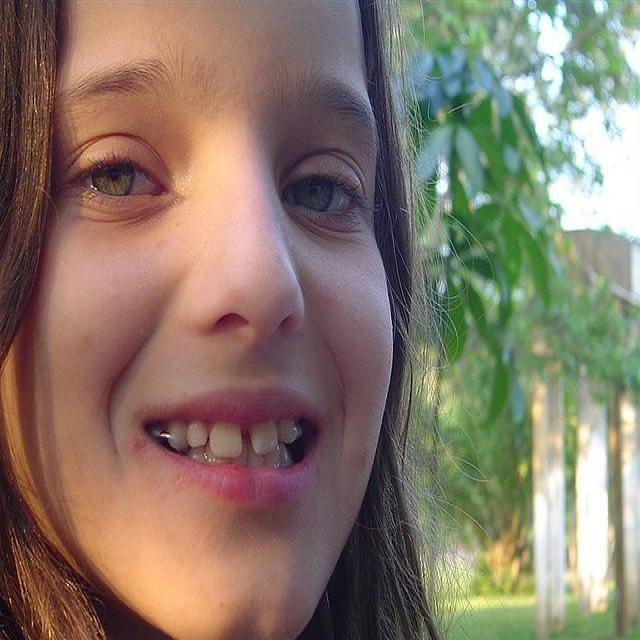open: (46, 54, 183, 236), (262, 69, 399, 245)
